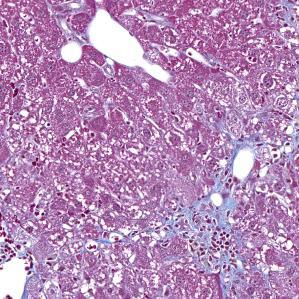fibrosis: (189, 199, 245, 272)
